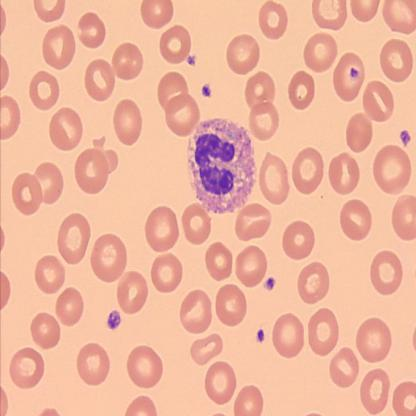Band Neutrophil: (185, 114, 258, 216)
